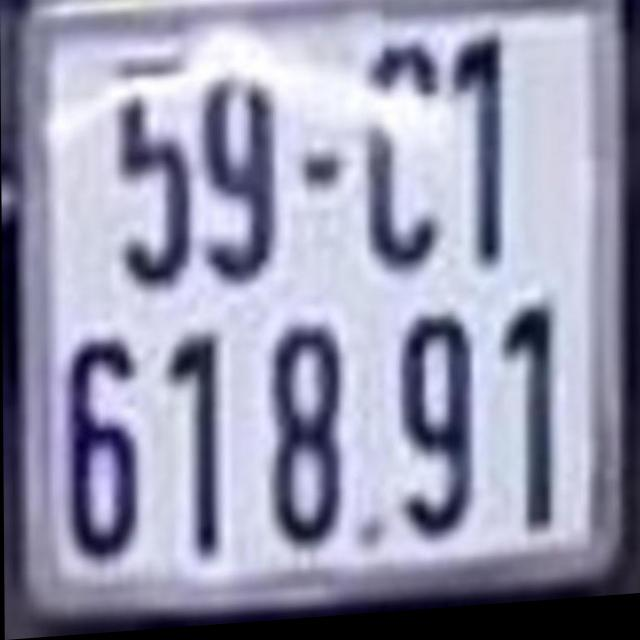1: (453, 34, 501, 272), (168, 334, 217, 559), (503, 308, 552, 533)
5: (116, 49, 189, 288)
6: (66, 335, 143, 559)
8: (269, 324, 344, 559)
9: (204, 47, 281, 284), (398, 318, 474, 547)
C: (362, 43, 448, 280)
